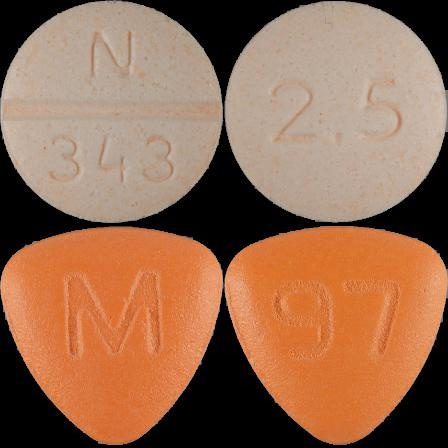49349-175: (0, 0, 224, 224)
